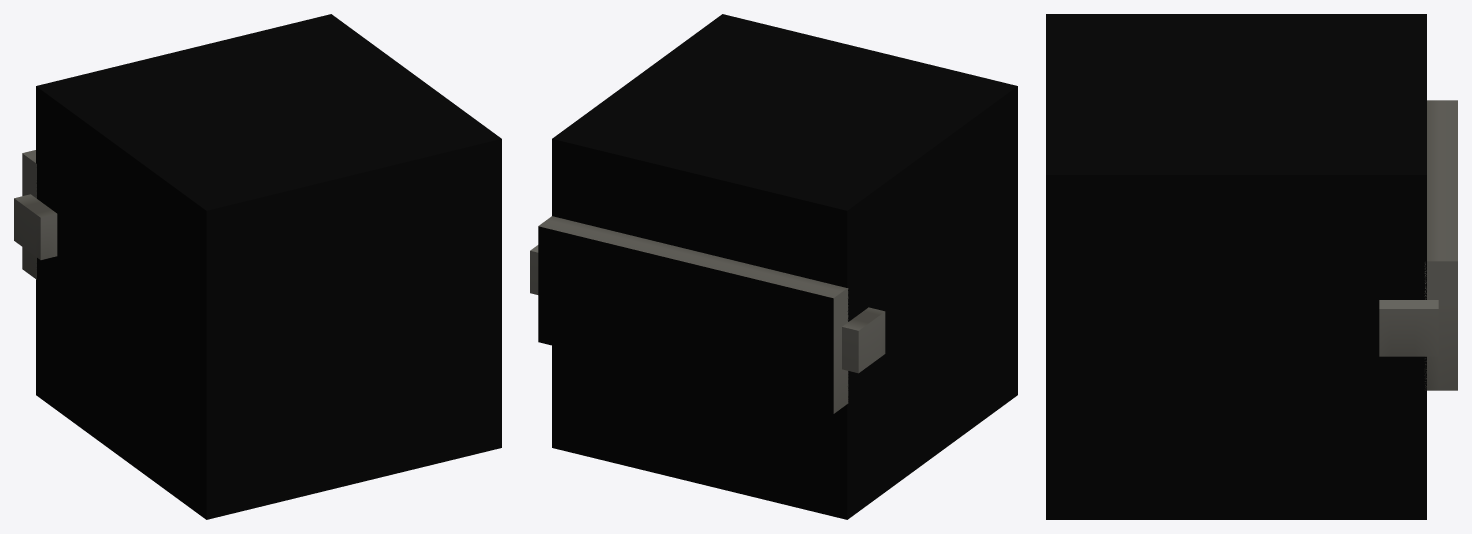
File: work_blaze_head.obj
3 views of the same model, side by side, from view 1: azimuth 30°, elevation 25°; view 2: azimuth 150°, elevation 25°; view 3: azimuth 270°, elevation 25° (orthographic). The views are drawn at different scales.
Parts seen in each view (by area): view 1: work_blaze_head; view 2: work_blaze_head; view 3: work_blaze_head.
Boxes of the visible parts, left/top/right/bottom form: work_blaze_head: left=14, top=14, right=501, bottom=519; work_blaze_head: left=530, top=14, right=1017, bottom=519; work_blaze_head: left=1046, top=14, right=1457, bottom=519.
Size of the model in its own units: 0.5562 by 0.5 by 0.5406.
